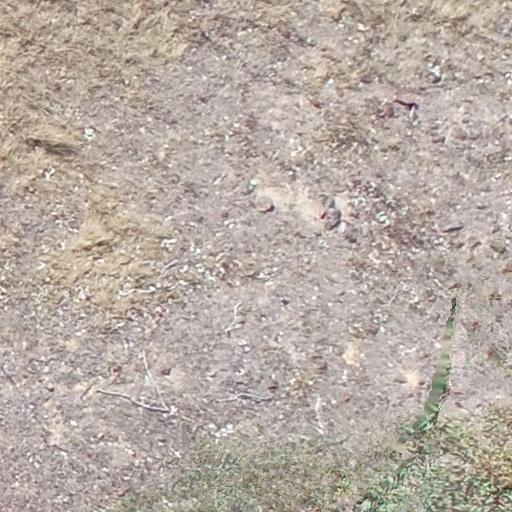stone: (381, 98, 417, 119), (465, 239, 485, 264), (460, 314, 482, 336), (320, 196, 338, 220), (449, 124, 471, 142), (326, 208, 343, 229), (256, 194, 272, 212), (242, 178, 258, 196), (364, 322, 382, 338), (374, 210, 391, 226), (489, 240, 508, 254), (442, 222, 464, 234), (380, 102, 396, 118), (342, 228, 358, 244), (305, 93, 321, 109), (154, 146, 168, 164), (499, 259, 512, 275), (314, 359, 328, 373), (444, 170, 463, 180), (117, 486, 131, 498), (152, 305, 164, 319), (236, 27, 251, 38), (223, 218, 237, 229), (430, 72, 442, 84), (268, 380, 280, 392), (448, 281, 462, 291), (432, 135, 448, 143), (392, 375, 408, 383), (160, 366, 172, 376), (156, 436, 168, 446), (220, 208, 230, 220), (356, 24, 370, 32), (206, 423, 218, 432), (475, 52, 485, 62), (248, 178, 258, 188), (341, 394, 352, 403), (428, 121, 442, 128), (280, 297, 290, 306), (325, 77, 335, 86), (45, 382, 54, 391), (226, 422, 236, 430), (476, 200, 484, 209), (69, 419, 78, 427), (96, 432, 105, 440), (123, 78, 130, 86), (86, 128, 94, 135), (227, 428, 236, 434), (239, 340, 249, 345), (278, 334, 284, 342), (191, 48, 198, 54), (214, 432, 222, 437), (197, 268, 205, 273), (312, 287, 320, 292), (244, 346, 250, 352), (222, 55, 228, 61), (195, 12, 203, 16), (188, 246, 194, 251), (215, 56, 220, 62), (224, 116, 229, 122), (220, 428, 227, 432), (222, 433, 228, 437), (188, 18, 194, 22), (191, 16, 196, 20)
